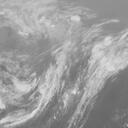cyclone: (43, 39, 99, 94)
